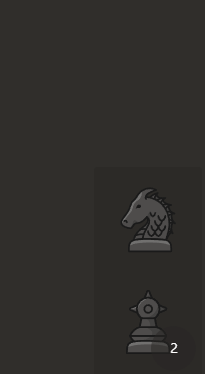F: (109, 283, 194, 364)
H: (112, 184, 188, 258)
